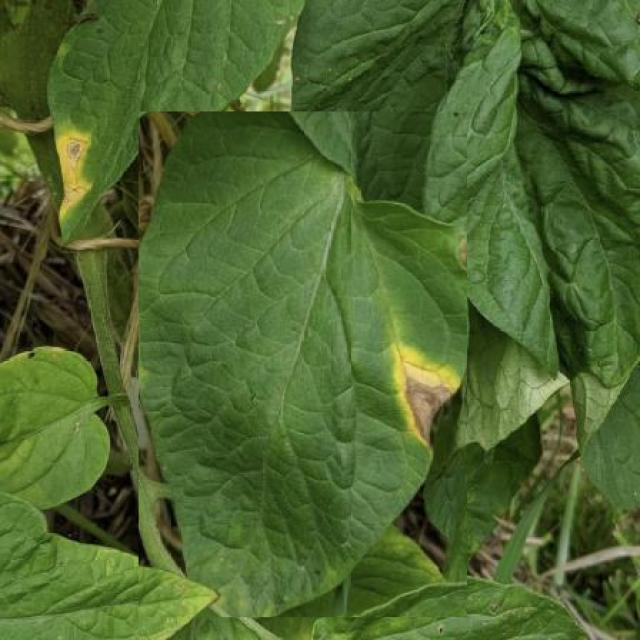Early Blight: (139, 112, 467, 617)
